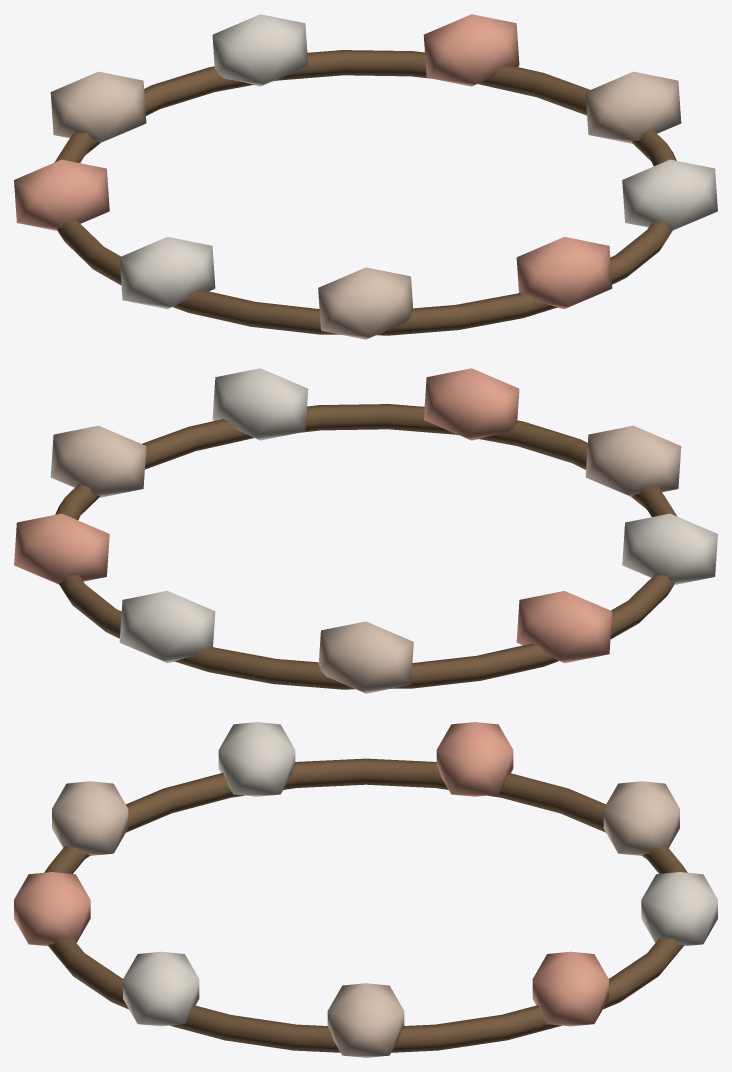
The model's file is item_ic_q_necklace.glb.
The picture shows the model from 3 angles, top to bottom: view 1: azimuth 30°, elevation 25°; view 2: azimuth 150°, elevation 25°; view 3: azimuth 270°, elevation 25°; orthographic projection. The views are drawn at different scales.
Parts seen in each view (by area): view 1: item_ic_q_necklace_main; view 2: item_ic_q_necklace_main; view 3: item_ic_q_necklace_main.
Boxes of the visible parts, box(x1,y1,x2,y2) form: item_ic_q_necklace_main: box(14, 14, 717, 339); item_ic_q_necklace_main: box(14, 368, 717, 693); item_ic_q_necklace_main: box(14, 722, 717, 1057).
Size of the model in its own units: 0.1935 by 0.022 by 0.1878.
